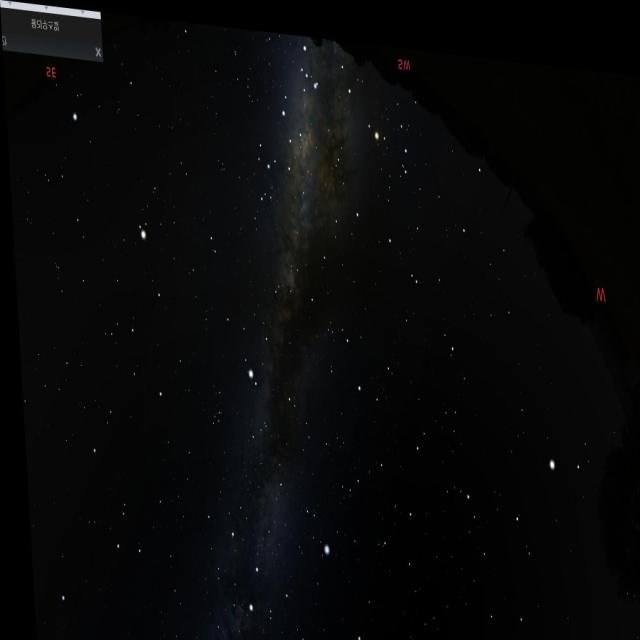aquila: (206, 258, 303, 427)
bootes: (474, 394, 596, 631)
cygnus: (215, 439, 287, 615)
lyra: (290, 489, 327, 550)
sagittarius: (245, 85, 316, 205)
scorpius: (296, 46, 424, 196)
